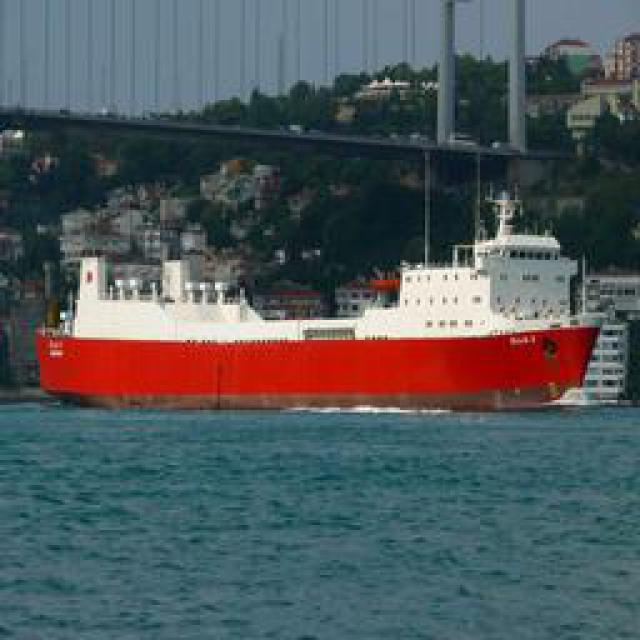Ship: (28, 226, 616, 416)
